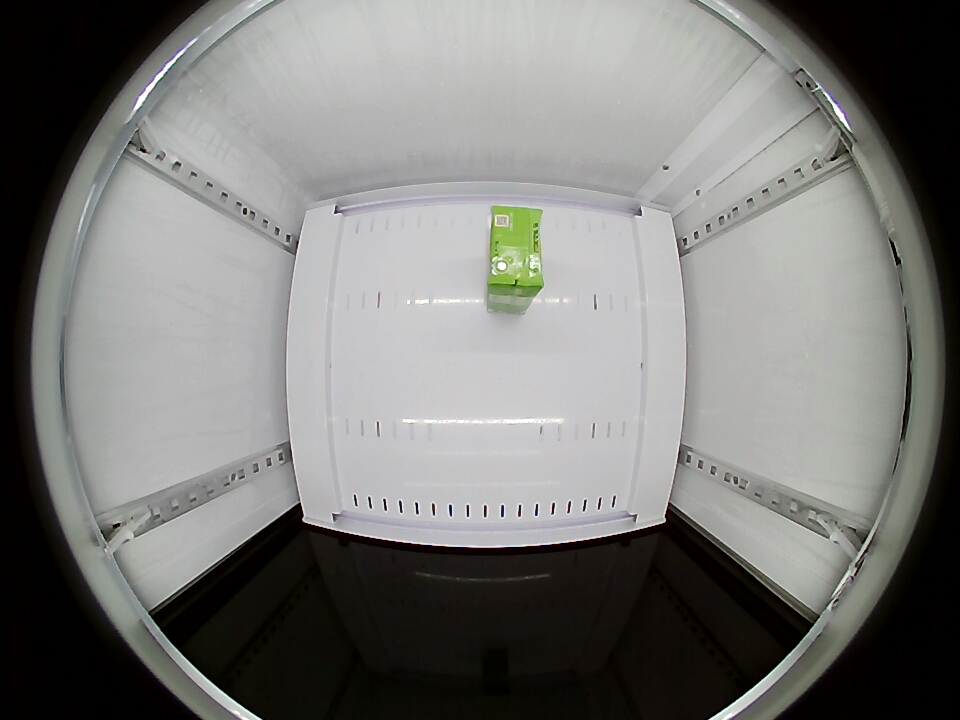mengniuzaocan: (488, 207, 543, 299)
